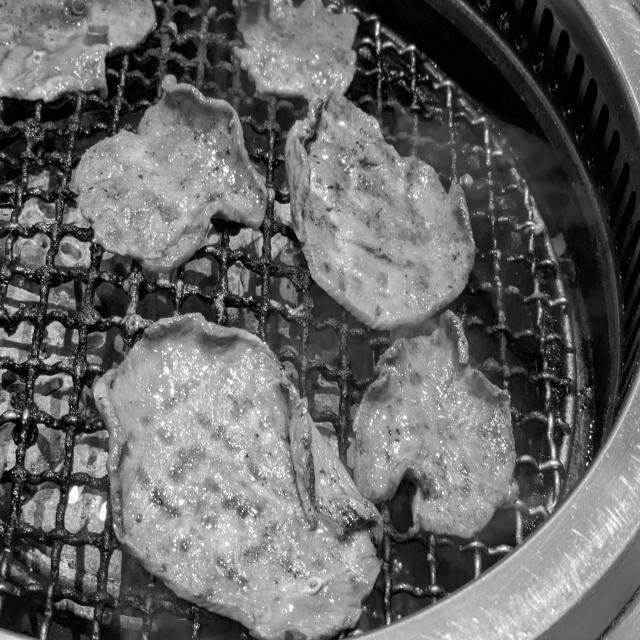OK cooked beef,: (341, 299, 534, 561), (68, 83, 271, 277)
OK undercooked beef,: (66, 297, 411, 640), (276, 90, 477, 326), (0, 0, 156, 106), (226, 0, 366, 99)
